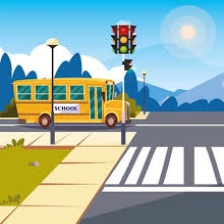semaforo: (119, 25, 129, 54)
